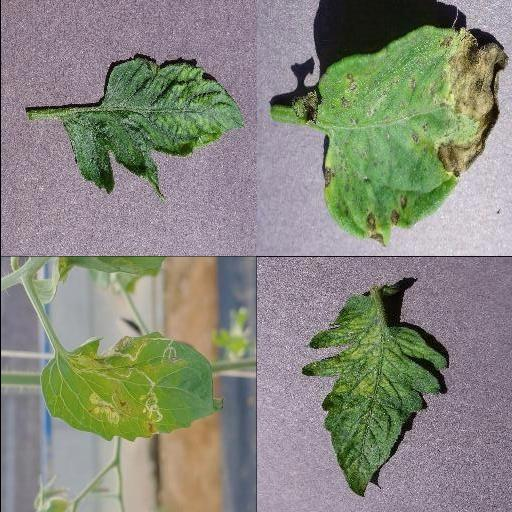Leaf Miner: (39, 330, 223, 442)
Mosaic Virus: (299, 291, 449, 499), (62, 56, 244, 200)
Septoria: (314, 28, 510, 248)
